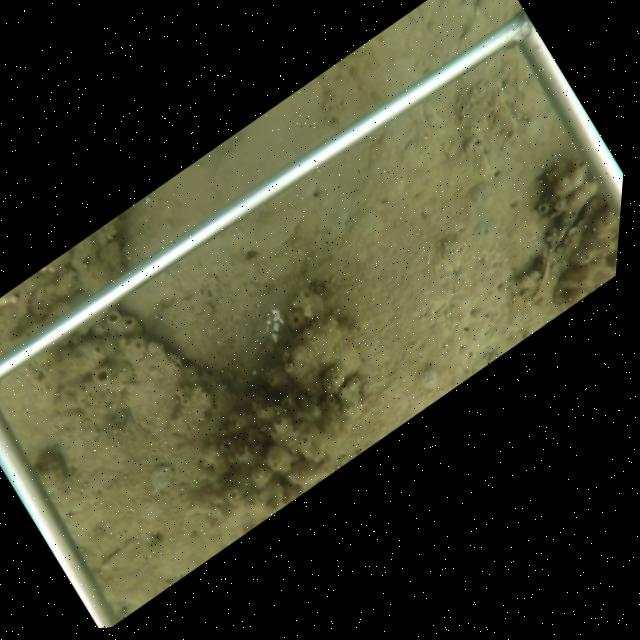Oyster-Closed: (47, 334, 233, 444)
Oyster-Open: (548, 187, 606, 265)
